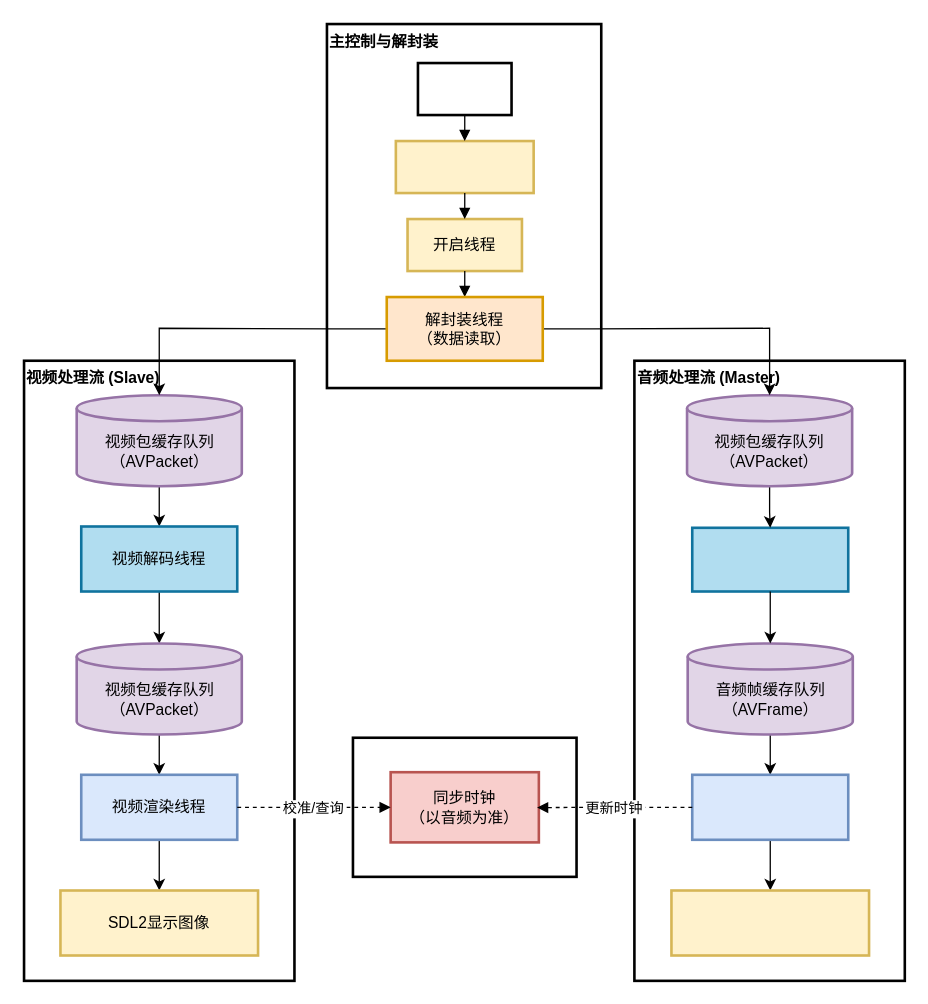
Image size: 928x1004. Some labels were removed from this diagram. Here are the shapes that lost their labels. From the top down, the box of each, then its label:
(416, 61, 512, 116): 开始
(394, 139, 534, 194): 资源初始化
(690, 526, 849, 592): 音频解码线程
(351, 736, 577, 878): 音视频同步模块
(690, 773, 849, 840): 音频渲染线程
(670, 889, 870, 956): SDL2播放声音
